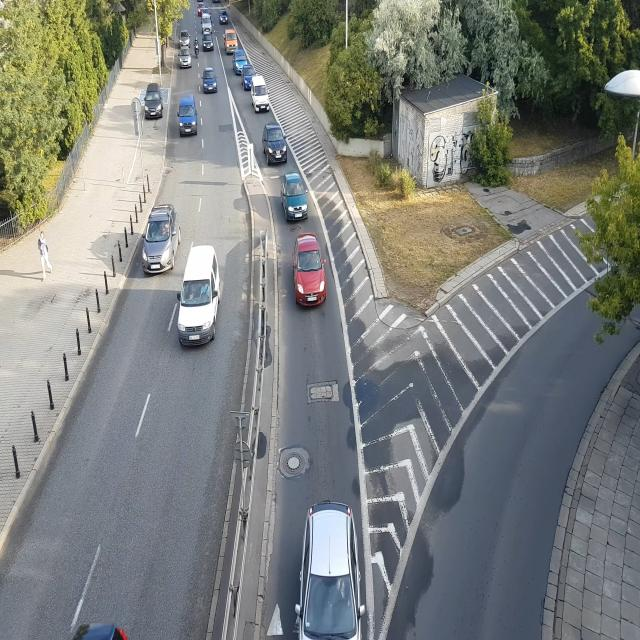car: (297, 500, 364, 640), (180, 246, 222, 348), (142, 205, 180, 272), (294, 235, 328, 307), (281, 173, 309, 221), (264, 124, 289, 166), (178, 95, 200, 137), (142, 86, 165, 120), (252, 82, 272, 112), (176, 48, 194, 72), (232, 50, 251, 72), (200, 70, 217, 94), (222, 28, 238, 53), (199, 15, 214, 34), (178, 28, 190, 49), (202, 38, 214, 52), (220, 13, 231, 25), (198, 4, 205, 14)
motorcycle: (194, 31, 200, 59)
